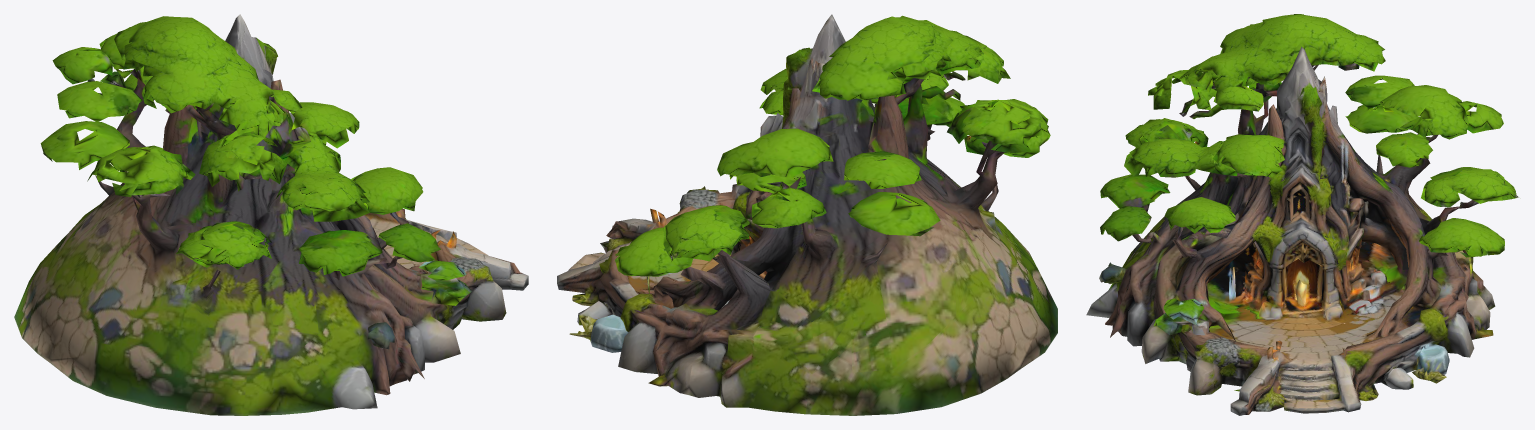
File: medievalForestShrine.fbx
3 renders of one model, left to right at view 1: azimuth 30°, elevation 25°; view 2: azimuth 150°, elevation 25°; view 3: azimuth 270°, elevation 25°, orthographic. The views are drawn at different scales.
Parts seen in each view (by area): view 1: tripo_node_67d8c9c9; view 2: tripo_node_67d8c9c9; view 3: tripo_node_67d8c9c9.
Part boxes in pixels (box(x1,y1,x2,y2)): tripo_node_67d8c9c9: box(14, 14, 528, 415); tripo_node_67d8c9c9: box(557, 14, 1057, 415); tripo_node_67d8c9c9: box(1086, 14, 1518, 415).
Size of the model in its own units: 0.9994 by 0.666 by 0.9847.
1 material, 1 textured.
